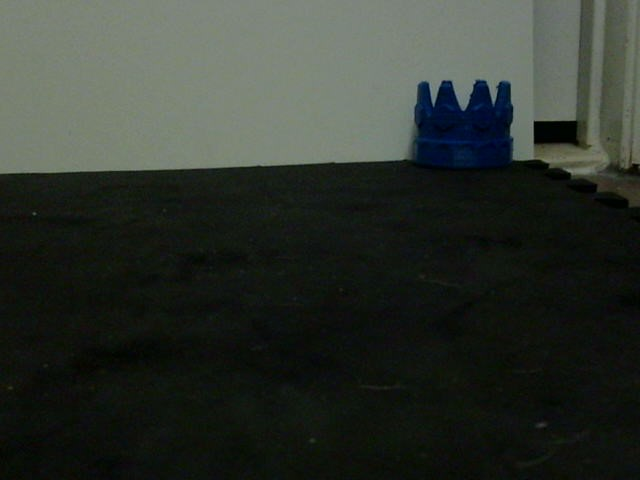crown: (410, 78, 517, 169)
